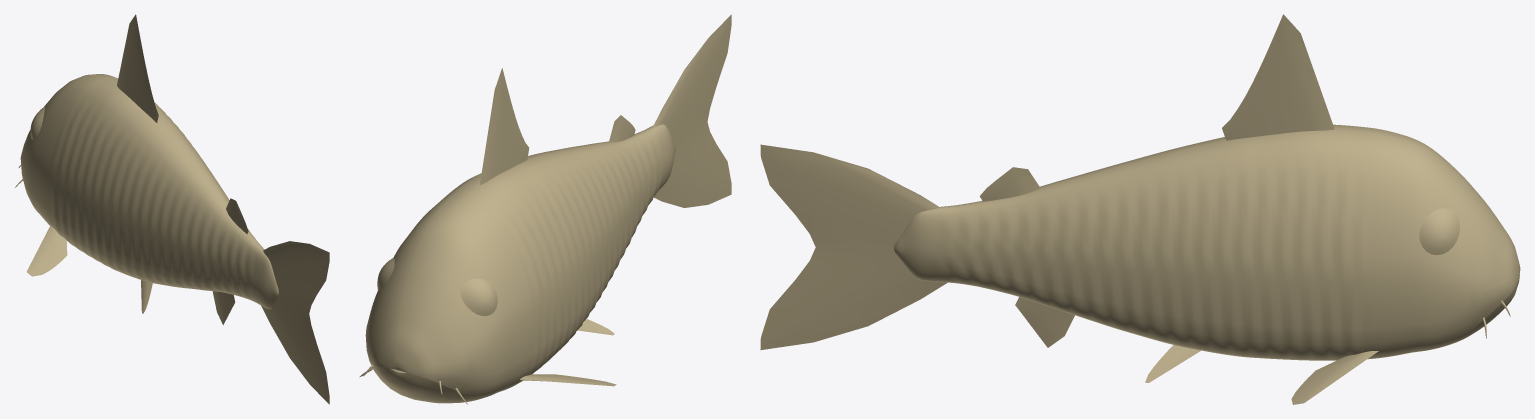
File: corydoras.glb
The picture shows the model from 3 angles, left to right: view 1: azimuth 30°, elevation 25°; view 2: azimuth 150°, elevation 25°; view 3: azimuth 270°, elevation 25°; orthographic projection. The views are drawn at different scales.
Visible parts, largest first — view 1: corydoras; view 2: corydoras; view 3: corydoras.
Boxes of the visible parts, bbox=[...] form: corydoras: bbox=[15, 14, 329, 404]; corydoras: bbox=[359, 14, 731, 404]; corydoras: bbox=[760, 14, 1520, 404].
Bounding box in the file's own units: 0.0248 × 0.0294 × 0.0594.
